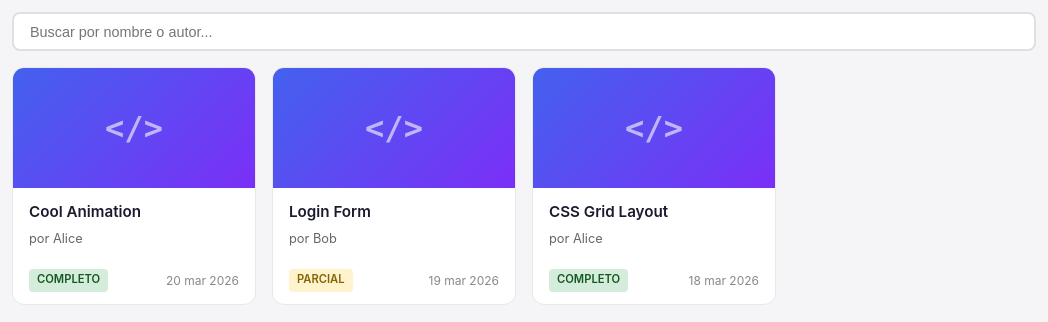
Scenario: ProjectGrid › search filters by name
The image size is (1048, 322).
Type "Login" into the field with placeholder "Buscar por nombre o autor..." at coordinates (524, 32), box [12,12,1036,51]
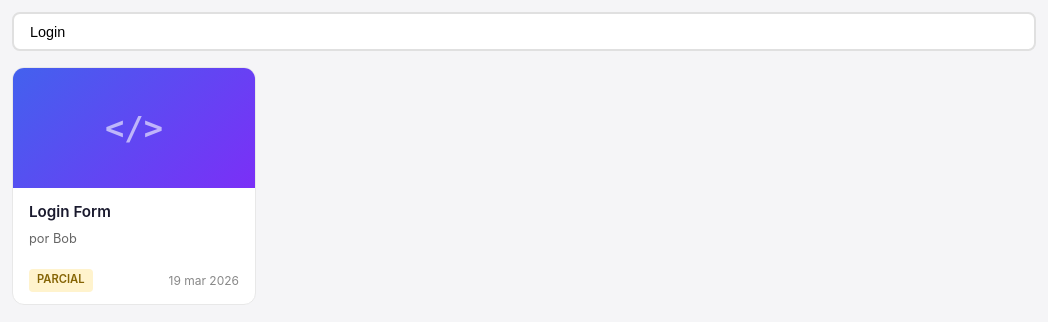
Check: the heading "Login Form" is shown, box [29,202,111,221]
Check: the heading "Cool Animation" is gone
Check: the heading "CSS Grid Layout" is gone
